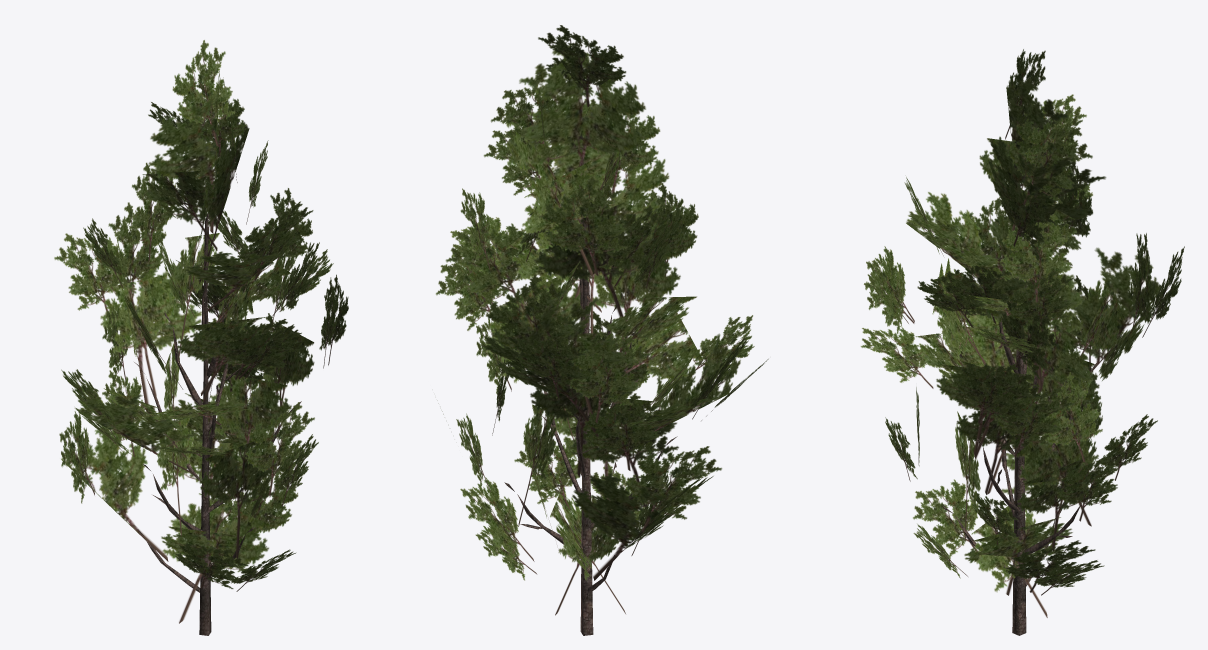
File: bush-medium.lod0.glb
3 renders of one model, left to right at view 1: azimuth 30°, elevation 25°; view 2: azimuth 150°, elevation 25°; view 3: azimuth 270°, elevation 25°, orthographic. The views are drawn at different scales.
Parts seen in each view (by area): view 1: Object_17, Object_16; view 2: Object_17, Object_16; view 3: Object_17, Object_16.
Part boxes in pixels (box(x1,y1,x2,y2)): Object_17: box(54, 40, 348, 623); Object_16: box(134, 212, 301, 635); Object_17: box(436, 25, 768, 615); Object_16: box(504, 162, 677, 635); Object_17: box(860, 49, 1184, 617); Object_16: box(942, 230, 1096, 635).
Size of the model in its own units: 0.7309 by 1.3 by 0.739.
Materials: 2 (2 with a texture image).
